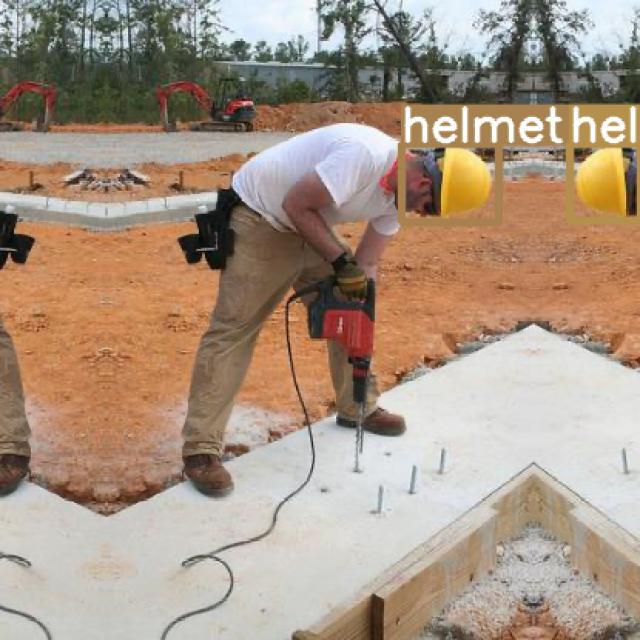Helmet: (422, 146, 492, 218), (574, 146, 632, 217)
